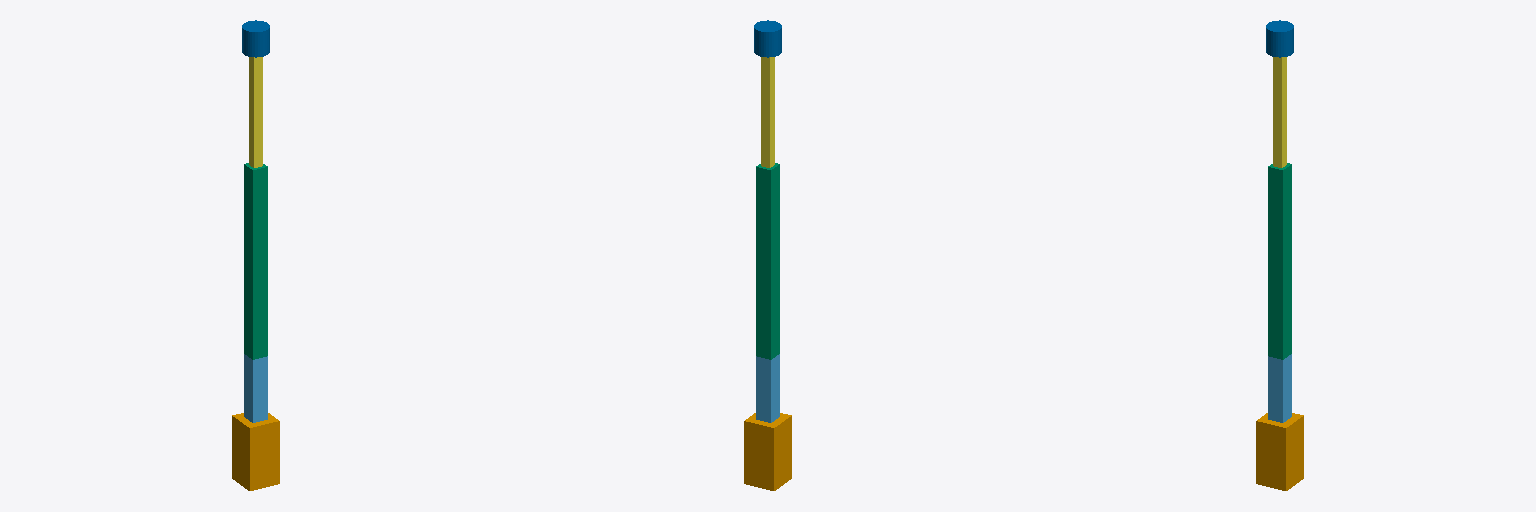
The robot description file, URDF, robot "3dof_robot_arm_scaled":
<?xml version="1.0"?>
<robot name="3dof_robot_arm_scaled">

  <!-- Base link -->
  <link name="base_link">
    <visual>
      <geometry>
        <box size="1 1 2"/> <!-- Base link dimensions (x, y, z) scaled by 10 -->
      </geometry>
    </visual>
  </link>

  <!-- First joint and link -->
  <joint name="joint1" type="revolute">
    <origin xyz="0 0 1"/> <!-- Joint origin relative to the base link, scaled by 10 -->
    <parent link="base_link"/>
    <child link="link1"/>
    <axis xyz="0 0 1"/> <!-- Joint axis (z-axis rotation) -->
    <limit lower="-1.57" upper="1.57" effort="100" velocity="1"/> <!-- Joint limits, scaled by 10 -->
  </joint>
  <link name="link1">
    <visual>
      <geometry>
        <box size="0.5 0.5 4"/> <!-- Link dimensions (x, y, z) scaled by 10 -->
      </geometry>
    </visual>
  </link>

  <!-- Second joint and link -->
  <joint name="joint2" type="revolute">
    <origin xyz="0 0 2"/> <!-- Joint origin relative to link1, scaled by 10 -->
    <parent link="link1"/>
    <child link="link2"/>
    <axis xyz="0 1 0"/> <!-- Joint axis (y-axis rotation) -->
    <limit lower="-1.57" upper="1.57" effort="100" velocity="1"/> <!-- Joint limits, scaled by 10 -->
  </joint>
  <link name="link2">
    <visual>
      <origin xyz="0 0 3" rpy="0 0 0"/>
      <geometry> <box size="0.5 0.5 6"/> </geometry>
    </visual>
  </link>

  <joint name="joint3" type="revolute">
    <origin xyz="0 0 6"/> 
    <parent link="link2"/>
    <child link="link3"/>
    <axis xyz="0 1 0"/>
    <limit lower="-1.57" upper="1.57" effort="100" velocity="1"/>
  </joint>
  <link name="link3">
    <visual> 
      <geometry> <box size="0.3 0.3 4"/> </geometry> 
      <origin xyz="0 0 2" rpy="0 0 0"/>
    </visual>
  </link>

  <joint name="joint-hand" type="revolute">
    <origin xyz="0 0 4"/> 
    <parent link="link3"/>
    <child link="hand"/>
    <axis xyz="0 1 0"/>
    <limit lower="-1.57" upper="1.57" effort="100" velocity="1"/>
  </joint>
  <link name="hand">
    <visual> 
      <geometry> <cylinder radius="0.4" length="0.8"/> </geometry>
      <origin xyz="0 0 0" rpy="0 0 0"/>
    </visual>
  </link>
</robot>

--- Facts derived from the render (not from the file) ---
3 views of the same robot in one strip: view 1: azimuth 30°, elevation 25°; view 2: azimuth 150°, elevation 25°; view 3: azimuth 330°, elevation 25° (orthographic).
Robot: 3dof_robot_arm_scaled — 5 links, 4 joints (4 revolute); root link base_link; default pose: every joint at zero.
Visible links, largest first — view 1: link2, base_link, link3, link1, hand; view 2: link2, base_link, link3, link1, hand; view 3: link2, base_link, link3, link1, hand.
Boxes of the visible links, x1=… form: link2: x1=244, y1=163, x2=267, y2=359; base_link: x1=232, y1=413, x2=279, y2=490; link3: x1=249, y1=57, x2=262, y2=167; link1: x1=244, y1=354, x2=267, y2=422; hand: x1=242, y1=20, x2=269, y2=57; link2: x1=756, y1=163, x2=779, y2=359; base_link: x1=744, y1=413, x2=791, y2=490; link3: x1=761, y1=57, x2=774, y2=167; link1: x1=756, y1=354, x2=779, y2=422; hand: x1=754, y1=20, x2=781, y2=57; link2: x1=1268, y1=163, x2=1291, y2=359; base_link: x1=1256, y1=413, x2=1303, y2=490; link3: x1=1273, y1=57, x2=1286, y2=167; link1: x1=1268, y1=354, x2=1291, y2=422; hand: x1=1266, y1=20, x2=1293, y2=57.
Size in the robot's own frame: 1 by 1 by 14.4 metres.
Geometry: primitives only (box / cylinder / sphere), no mesh files.
